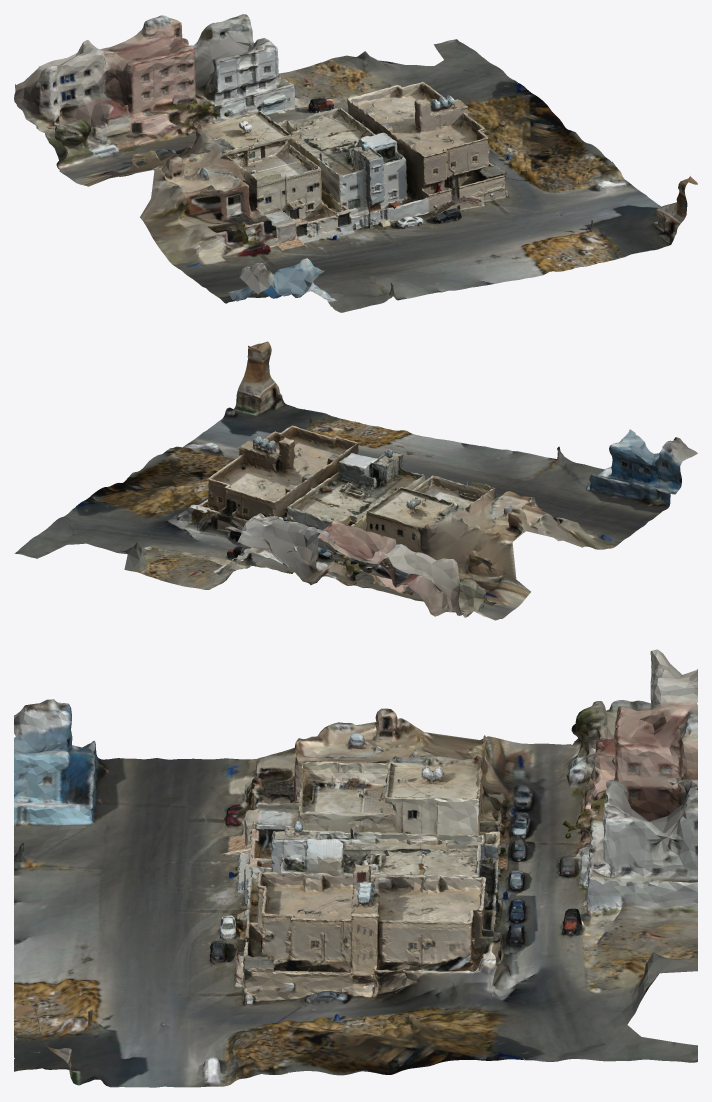
3 renders of one model, top to bottom at view 1: azimuth 30°, elevation 25°; view 2: azimuth 150°, elevation 25°; view 3: azimuth 270°, elevation 25°, orthographic. The views are drawn at different scales.
Bounding box in the file's own units: 2.48 × 0.637 × 2.35.
1 material, 1 textured.
